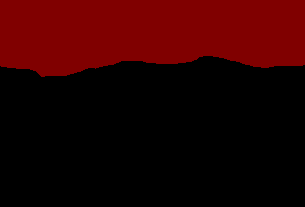Sky: (1, 1, 304, 206)
